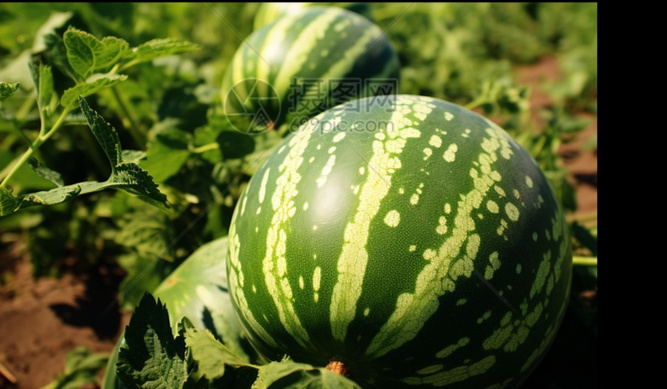watermelon: (227, 98, 569, 383), (223, 4, 401, 131)
